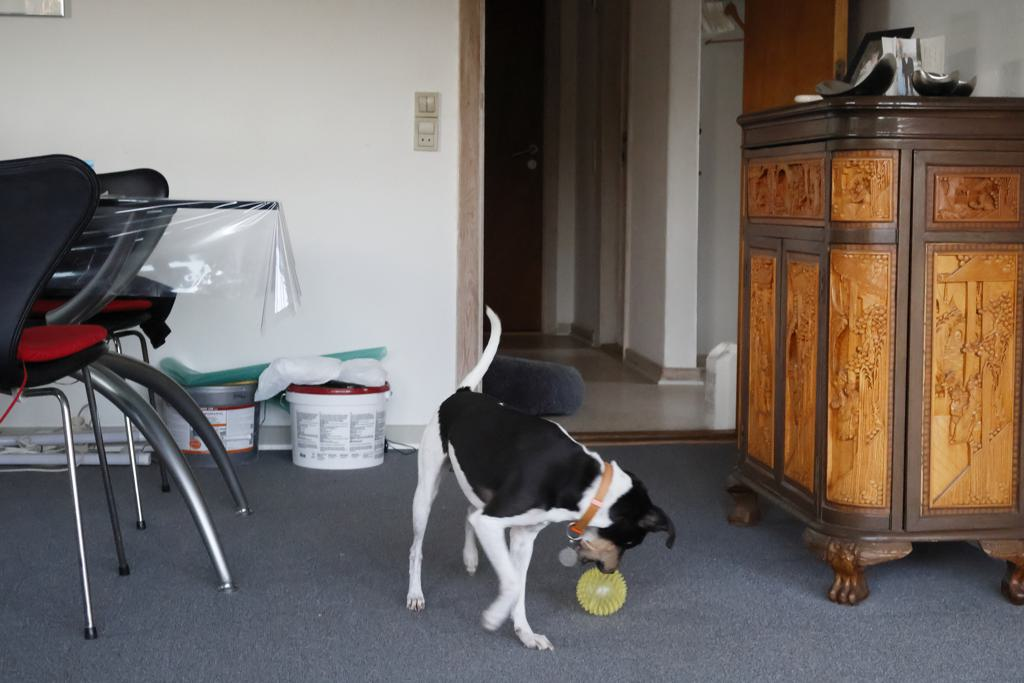Dog: (401, 302, 682, 656)
